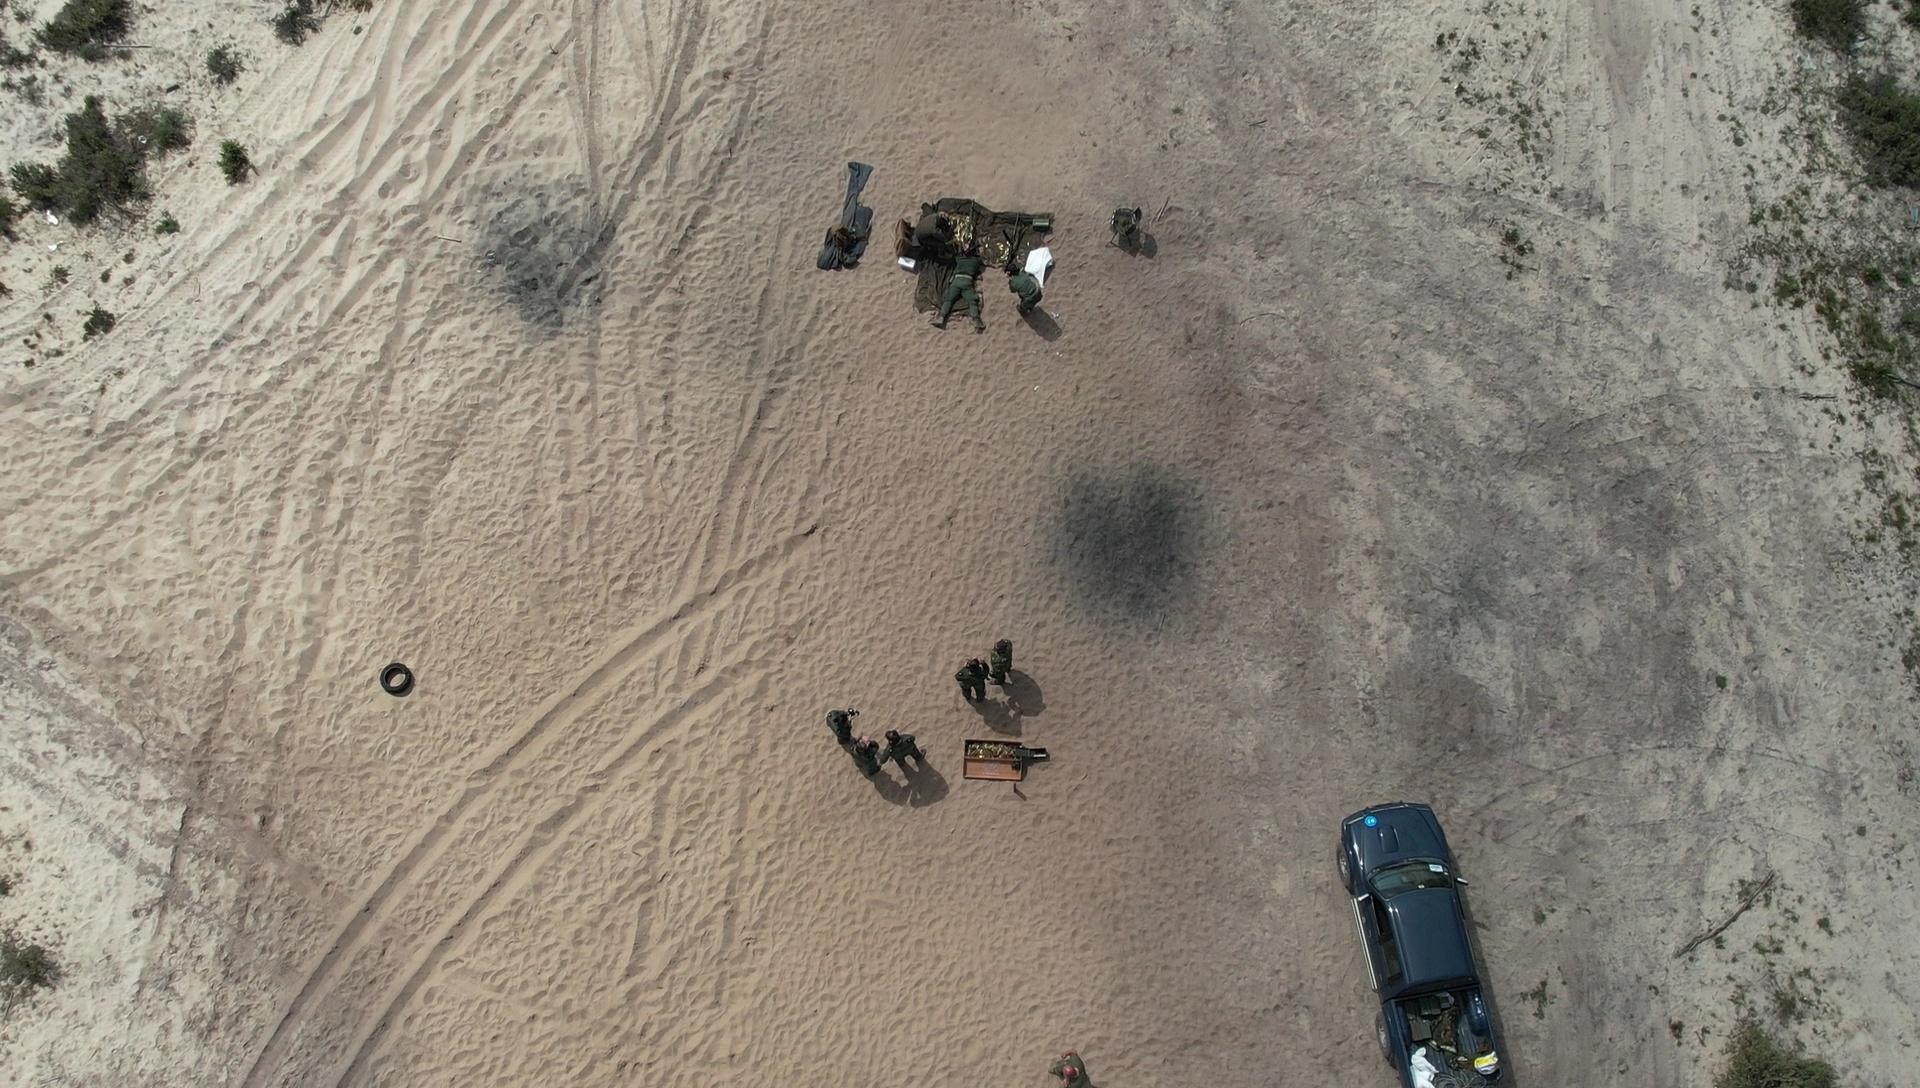Soldier: (928, 235, 992, 349), (1005, 236, 1062, 334), (905, 193, 982, 257), (880, 716, 952, 782), (986, 630, 1033, 692), (1047, 1041, 1110, 1081), (849, 727, 891, 777), (827, 692, 858, 752), (957, 654, 992, 707)
